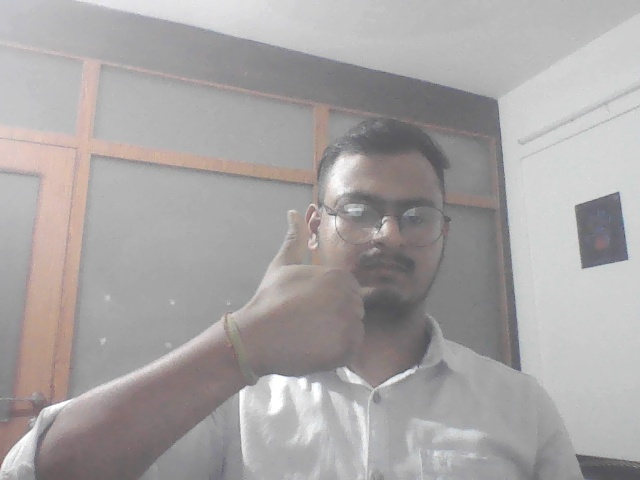Good: (244, 207, 377, 384)
